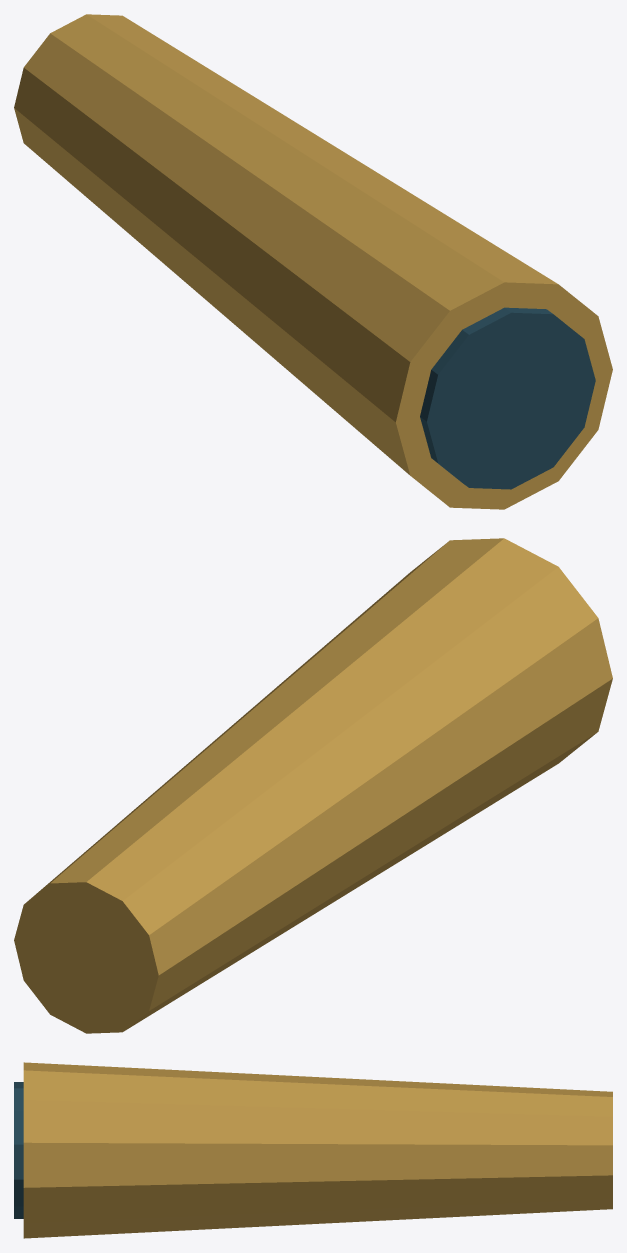
Rendered from equipment-spyglass.lod0.glb.
3 views of the same model, one above another, from view 1: azimuth 30°, elevation 25°; view 2: azimuth 150°, elevation 25°; view 3: azimuth 270°, elevation 25° (orthographic). The views are drawn at different scales.
Visible parts, largest first — view 1: equipment-spyglass__body; view 2: equipment-spyglass__body; view 3: equipment-spyglass__body.
Part boxes in pixels (x1,y1,x2,y2): equipment-spyglass__body: (14,14,612,509); equipment-spyglass__body: (14,538,612,1033); equipment-spyglass__body: (14,1062,612,1238).
Size of the model in its own units: 0.18 by 0.18 by 0.61.
